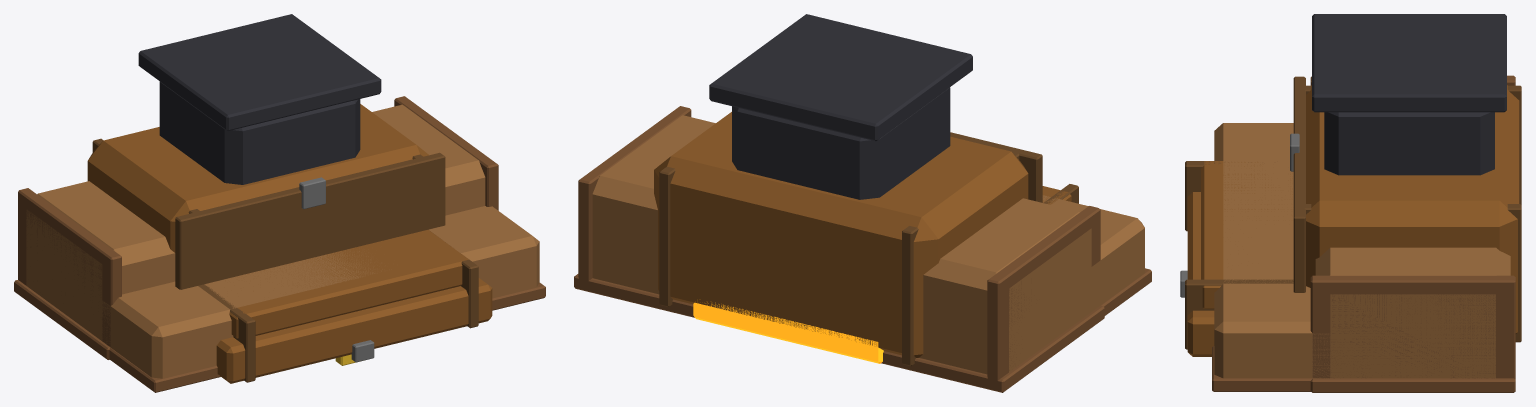
The model's file is flagship_props_032.glb.
3 views of the same model, side by side, from view 1: azimuth 30°, elevation 25°; view 2: azimuth 150°, elevation 25°; view 3: azimuth 270°, elevation 25° (orthographic). The views are drawn at different scales.
Parts seen in each view (by area): view 1: Prop_Chest_Large_Wood_Base, Prop_CookingPot_Lit, Prop_Chest_Large_Wood_Lid, Prop_Chest_Large, Prop_Chest_Large_Lid; view 2: Prop_Chest_Large_Wood_Base, Prop_Chest_Large, Prop_CookingPot_Lit, Prop_Chest_Large_Lid, Prop_Chest_Large_Wood_Lid; view 3: Prop_CookingPot_Lit, Prop_Chest_Large, Prop_Chest_Large_Wood_Base, Prop_Chest_Large_Lid, Prop_Chest_Large_Wood_Lid.
Part boxes in pixels (x1,y1,x2,y2): Prop_Chest_Large_Wood_Base: (87,104,445,289); Prop_CookingPot_Lit: (138,14,381,184); Prop_Chest_Large_Wood_Lid: (198,229,492,383); Prop_Chest_Large: (14,96,498,359); Prop_Chest_Large_Lid: (65,206,545,392); Prop_Chest_Large_Wood_Base: (654,112,1042,366); Prop_Chest_Large: (574,106,1104,392); Prop_CookingPot_Lit: (693,14,972,363); Prop_Chest_Large_Lid: (1042,195,1151,341); Prop_Chest_Large_Wood_Lid: (1042,184,1078,204); Prop_CookingPot_Lit: (1312,14,1506,175); Prop_Chest_Large: (1310,75,1515,392); Prop_Chest_Large_Wood_Base: (1290,76,1521,342); Prop_Chest_Large_Lid: (1212,123,1409,391); Prop_Chest_Large_Wood_Lid: (1180,161,1293,356).
Size of the model in its own units: 2.04 by 1.13 by 1.4.
